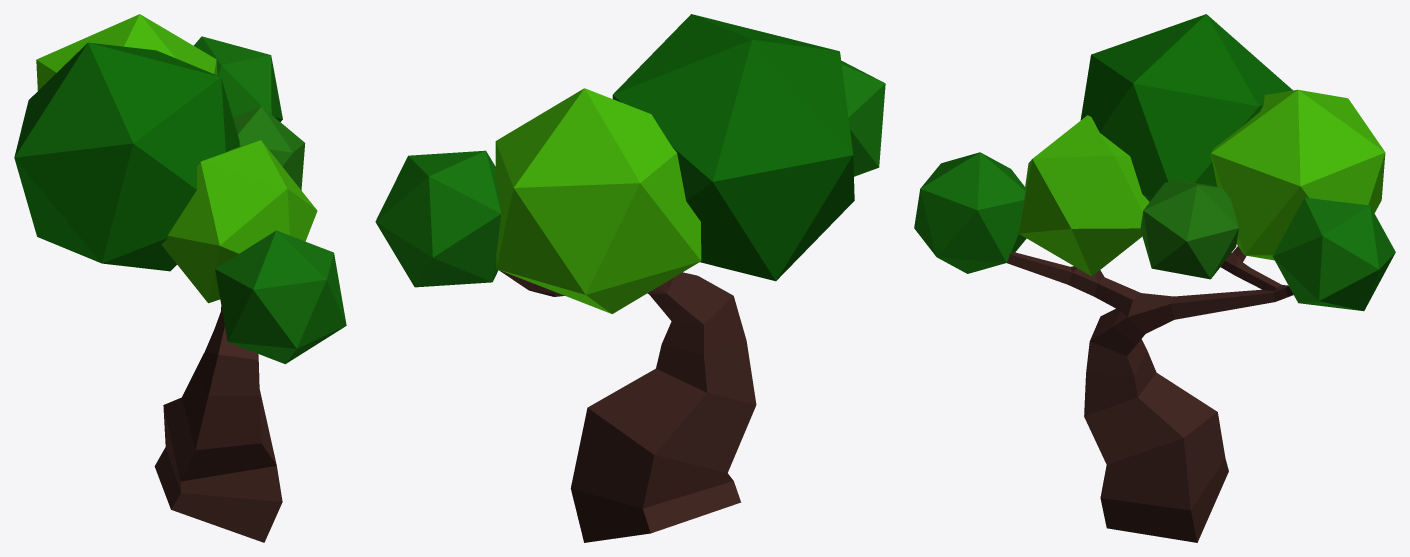
File: Low poly tree 1.glb
The picture shows the model from 3 angles, left to right: view 1: azimuth 30°, elevation 25°; view 2: azimuth 150°, elevation 25°; view 3: azimuth 270°, elevation 25°; orthographic projection. The views are drawn at different scales.
Parts seen in each view (by area): view 1: Icosphere.037, Cube.004, Icosphere.039, Icosphere.040, Icosphere.036, Icosphere.035, Icosphere.038; view 2: Icosphere.037, Icosphere.036, Cube.004, Icosphere.035, Icosphere.040; view 3: Cube.004, Icosphere.037, Icosphere.036, Icosphere.039, Icosphere.040, Icosphere.035, Icosphere.038.
Boxes of the visible parts, x1,y1,x2,y2 form: Icosphere.037: (14, 42, 239, 271); Cube.004: (154, 306, 282, 542); Icosphere.039: (161, 140, 317, 303); Icosphere.040: (215, 230, 346, 364); Icosphere.036: (36, 14, 217, 90); Icosphere.035: (193, 36, 282, 121); Icosphere.038: (233, 106, 305, 190); Icosphere.037: (612, 14, 854, 281); Icosphere.036: (495, 88, 701, 313); Cube.004: (499, 270, 756, 542); Icosphere.035: (375, 150, 501, 287); Icosphere.040: (841, 60, 885, 176); Cube.004: (1007, 246, 1293, 542); Icosphere.037: (1080, 14, 1292, 201); Icosphere.036: (1210, 89, 1385, 260); Icosphere.039: (1018, 115, 1149, 276); Icosphere.040: (914, 152, 1026, 273); Icosphere.035: (1272, 197, 1395, 311); Icosphere.038: (1140, 179, 1238, 279).
Size of the model in its own units: 9.29 by 12.94 by 12.32.
